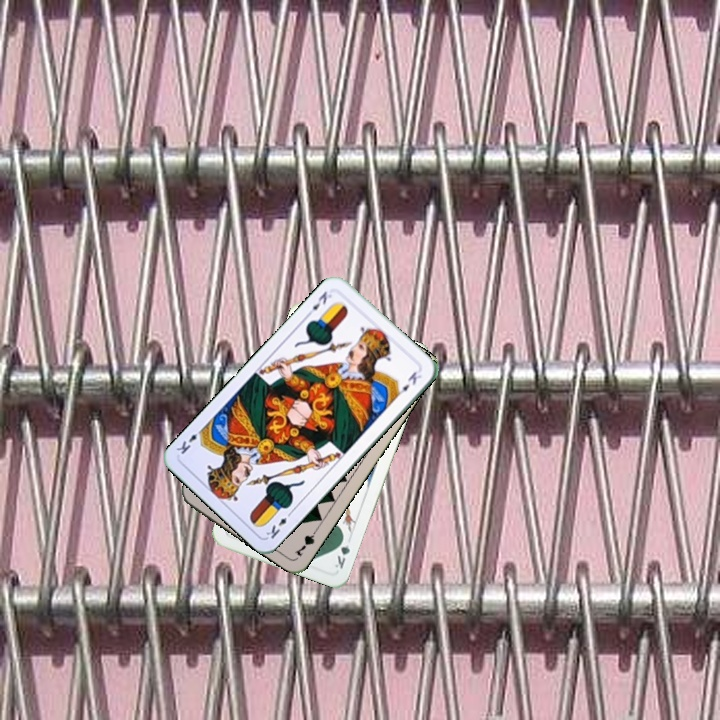EK: (262, 507, 295, 541), (304, 285, 337, 319)
G7: (290, 523, 321, 559)
GK: (331, 532, 353, 572)
